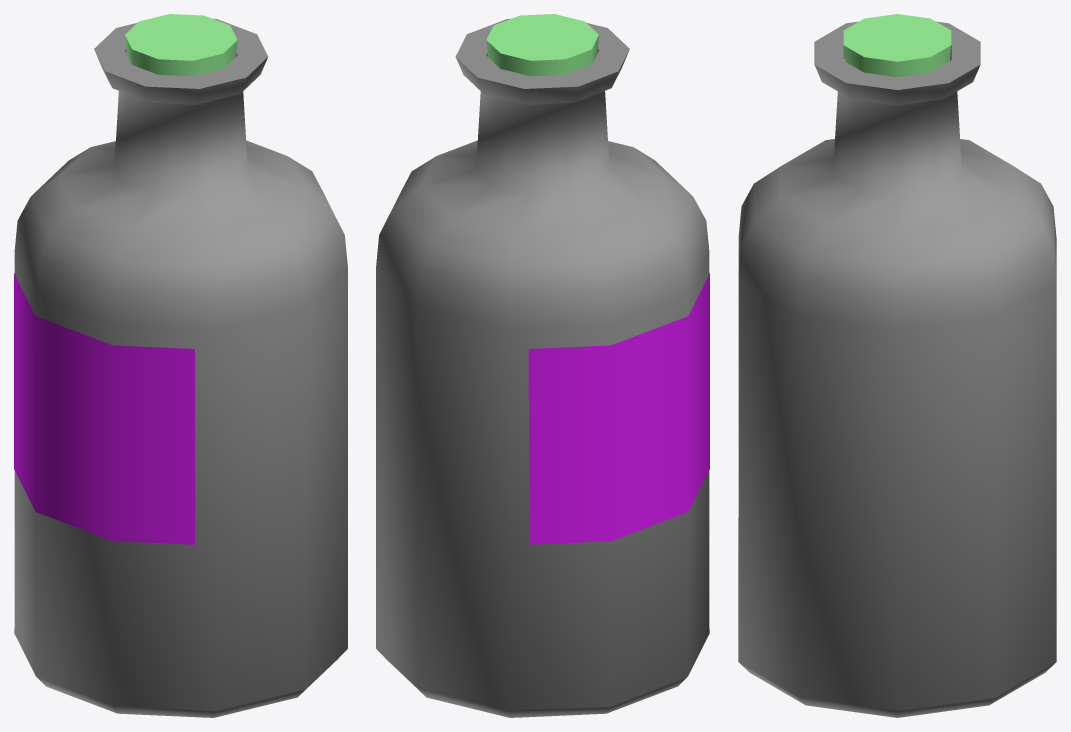
File: Flask04.FBX
3 views of the same model, side by side, from view 1: azimuth 30°, elevation 25°; view 2: azimuth 150°, elevation 25°; view 3: azimuth 270°, elevation 25° (orthographic).
Visible parts, largest first — view 1: Flask_04; view 2: Flask_04; view 3: Flask_04.
Part boxes in pixels (x1,y1,x2,y2): Flask_04: [14, 14, 347, 717]; Flask_04: [376, 14, 709, 717]; Flask_04: [738, 14, 1056, 717].
Bounding box in the file's own units: 0.7835 × 1.59 × 0.744.
